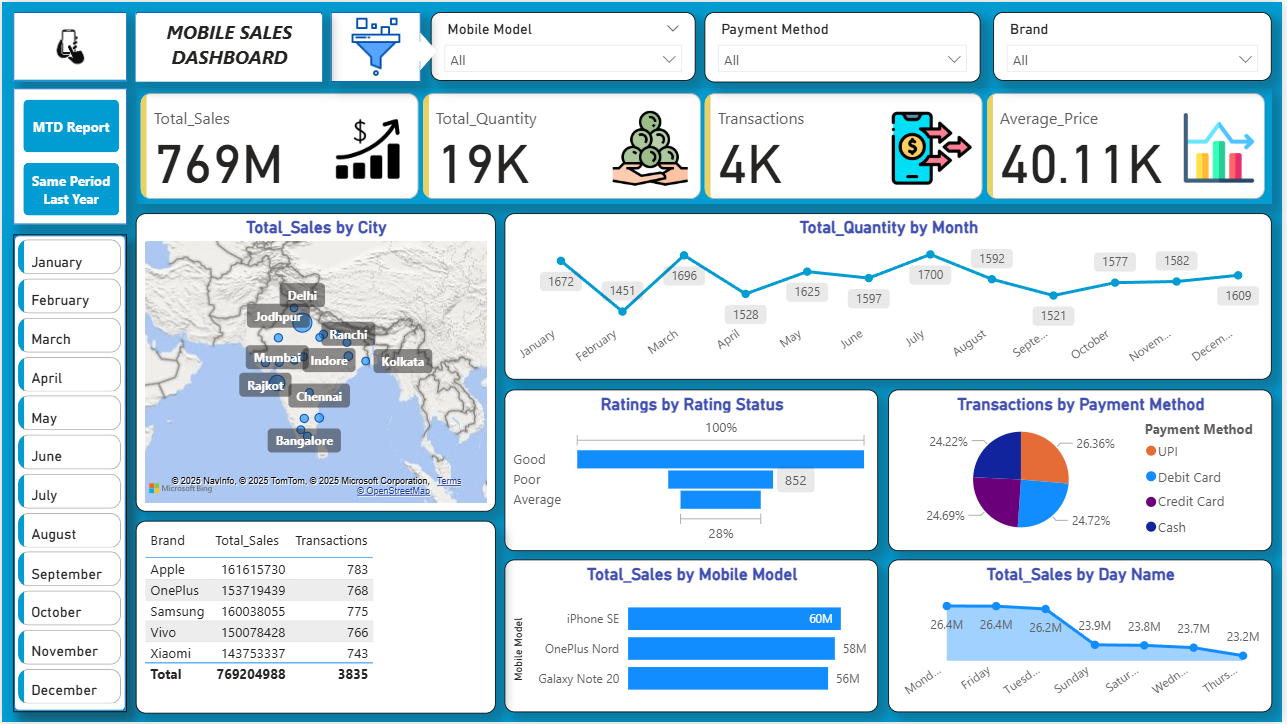

Layout of this report page (visuals, bound fields, positions):
{"tool":"powerbi","page":{"name":"Dashboard","canvas":[1280,720],"ordinal":0},"visuals":[{"type":"shape","box":[11.2,10,113.8,68.8],"z":0},{"type":"image","box":[11.2,10,113.8,70],"z":1000},{"type":"shape","box":[11.2,86.2,113.8,136.2],"z":2000},{"type":"shape","box":[11.2,232.5,113.8,477.5],"z":3000},{"type":"advancedSlicerVisual","fields":{"Values":["Custom_calender.Date.Variation.Date Hierarchy.Month"]},"box":[11.2,232.5,113.8,477.5],"z":4000},{"type":"cardVisual","fields":{"Data":["Sales_Data.Total_Sales","Sales_Data.Total_Quantity","Sales_Data.Transactions","Sales_Data.Average_Price"]},"box":[133.8,86.2,1136.2,116.2],"z":5000},{"type":"slicer","fields":{"Values":["Sales_Data.Mobile Model"]},"box":[428.8,10,265,68.8],"z":6000},{"type":"slicer","fields":{"Values":["Sales_Data.Payment Method"]},"box":[702.5,10,276.2,70],"z":7000},{"type":"slicer","fields":{"Values":["Sales_Data.Brand"]},"box":[991.2,10,278.8,68.8],"z":8000},{"type":"shape","box":[328.8,10,90,70],"z":9000},{"type":"image","box":[328.8,10,90,70],"z":10000},{"type":"shape","box":[401.2,30,33.8,38.8],"z":11000},{"type":"shape","box":[133.8,10,186.2,68.8],"z":12000},{"type":"textbox","box":[133.8,12.5,186.2,67.5],"z":13000},{"type":"map","fields":{"Category":["Sales_Data.City"],"Size":["Sales_Data.Total_Sales"]},"box":[133.8,211.2,360,298.8],"z":14000},{"type":"lineChart","fields":{"Y":["Sales_Data.Total_Quantity"],"Category":["Custom_calender.Date.Variation.Date Hierarchy.Month"]},"box":[502.5,211.2,767.5,166.2],"z":15000},{"type":"funnel","title":" Ratings by Rating Status","fields":{"Y":["CountNonNull(Sales_Data.Customer Ratings)"],"Category":["Sales_Data.Rating Status"]},"box":[502.5,387.5,373.8,161.2],"z":16000},{"type":"pieChart","fields":{"Y":["Sales_Data.Transactions"],"Category":["Sales_Data.Payment Method"]},"box":[886.2,387.5,383.8,161.2],"z":17000},{"type":"clusteredBarChart","fields":{"Y":["Sales_Data.Total_Sales"],"Category":["Sales_Data.Mobile Model"]},"box":[502.5,557.5,373.8,152.5],"z":18000},{"type":"areaChart","fields":{"Category":["Custom_calender.Day Name"],"Y":["Sales_Data.Total_Sales"]},"box":[886.2,557.5,383.8,152.5],"z":19000},{"type":"tableEx","fields":{"Values":["Sales_Data.Brand","Sales_Data.Total_Sales","Sales_Data.Transactions"]},"box":[133.8,518.8,360,192.5],"z":20000},{"type":"pageNavigator","box":[21.2,97.5,96.2,116.2],"z":20001}]}

Visuals, with their boxes in screenshot pixels (x1, y1, x2, y2), scaled from the page's 1280x720 canvas onto the 1287x724 screenshot:
shape: bbox=(11, 10, 126, 79)
image: bbox=(11, 10, 126, 80)
shape: bbox=(11, 87, 126, 224)
shape: bbox=(11, 234, 126, 714)
advancedSlicerVisual - Custom_calender.Date.Variation.Date Hierarchy.Month: bbox=(11, 234, 126, 714)
cardVisual - Sales_Data.Total_Sales x Sales_Data.Total_Quantity: bbox=(135, 87, 1277, 204)
slicer - Sales_Data.Mobile Model: bbox=(431, 10, 698, 79)
slicer - Sales_Data.Payment Method: bbox=(706, 10, 984, 80)
slicer - Sales_Data.Brand: bbox=(997, 10, 1277, 79)
shape: bbox=(331, 10, 421, 80)
image: bbox=(331, 10, 421, 80)
shape: bbox=(403, 30, 437, 69)
shape: bbox=(135, 10, 322, 79)
textbox: bbox=(135, 13, 322, 80)
map - Sales_Data.City x Sales_Data.Total_Sales: bbox=(135, 212, 497, 513)
lineChart - Sales_Data.Total_Quantity x Custom_calender.Date.Variation.Date Hierarchy.Month: bbox=(505, 212, 1277, 379)
" Ratings by Rating Status" funnel: bbox=(505, 390, 881, 552)
pieChart - Sales_Data.Transactions x Sales_Data.Payment Method: bbox=(891, 390, 1277, 552)
clusteredBarChart - Sales_Data.Total_Sales x Sales_Data.Mobile Model: bbox=(505, 561, 881, 714)
areaChart - Custom_calender.Day Name x Sales_Data.Total_Sales: bbox=(891, 561, 1277, 714)
tableEx - Sales_Data.Brand x Sales_Data.Total_Sales: bbox=(135, 522, 497, 715)
pageNavigator: bbox=(21, 98, 118, 215)
